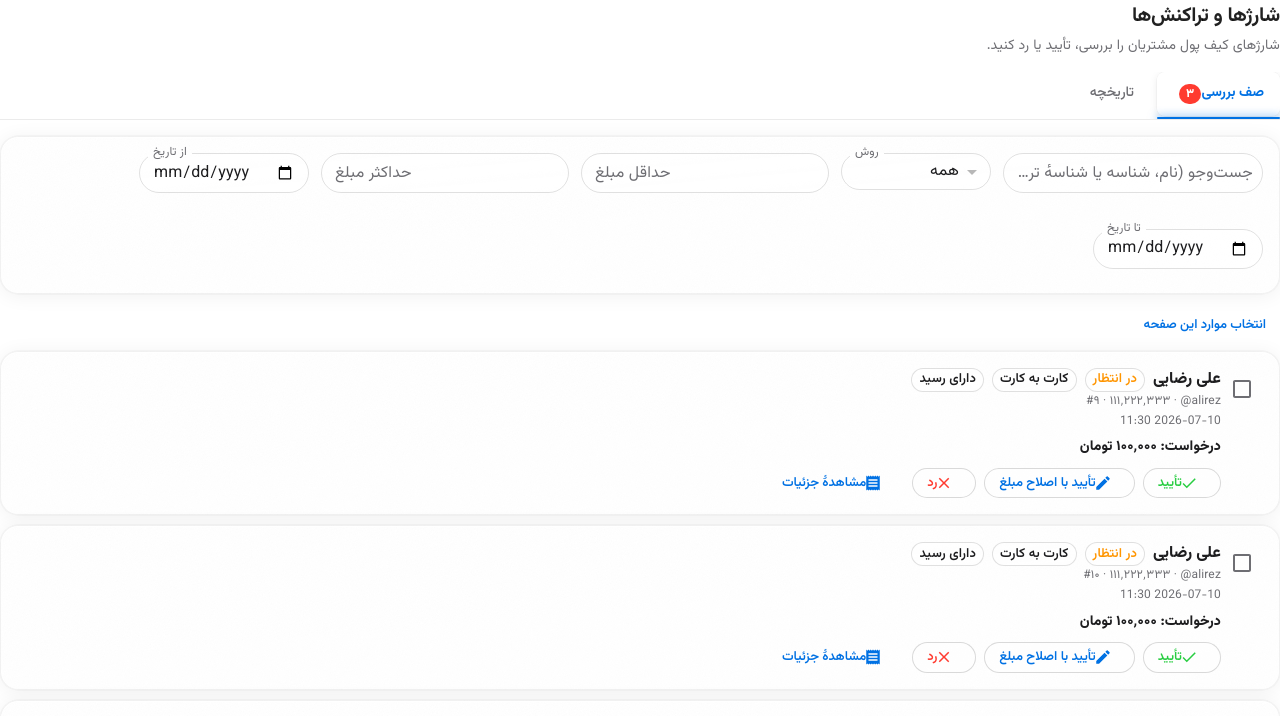
it: storefront top-ups operations center › runs a bounded bulk review with a single key and per-item results, healing already-decided
Click the button "انتخاب موارد این صفحه" at (1205, 325), box [1130,310,1279,341]
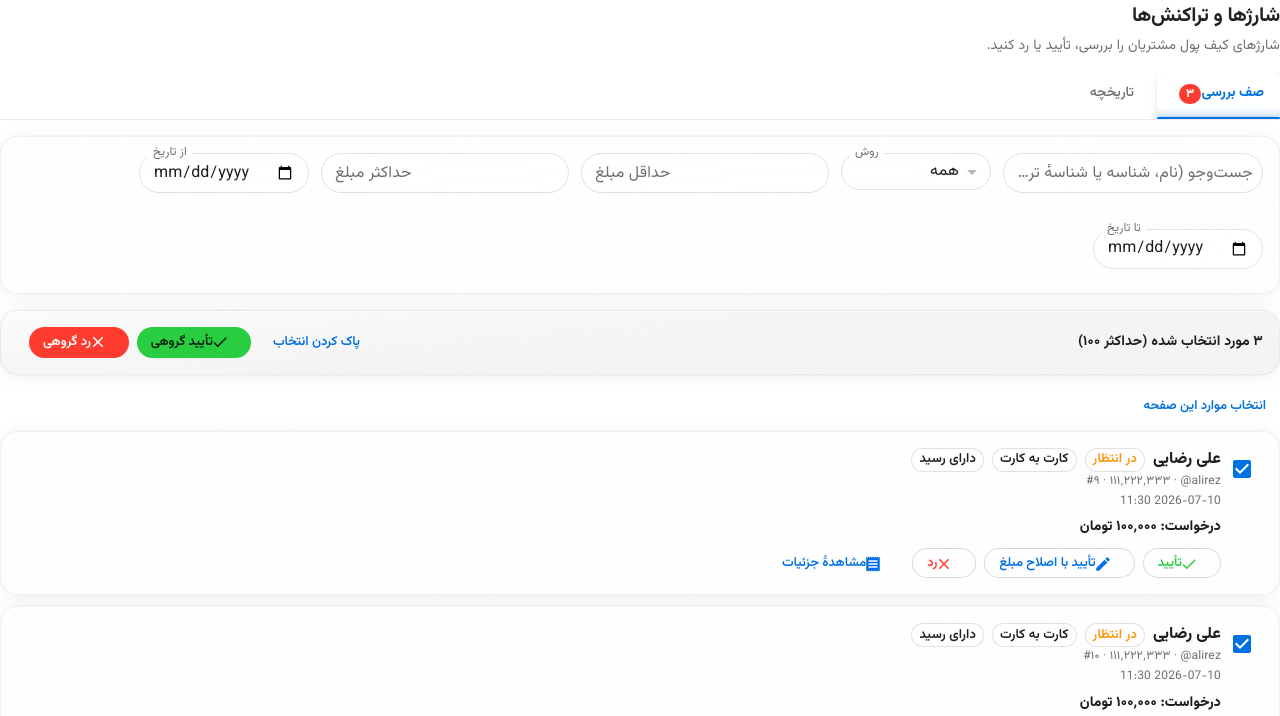
Click the button "تأیید گروهی" at (194, 342), box [137,327,251,358]
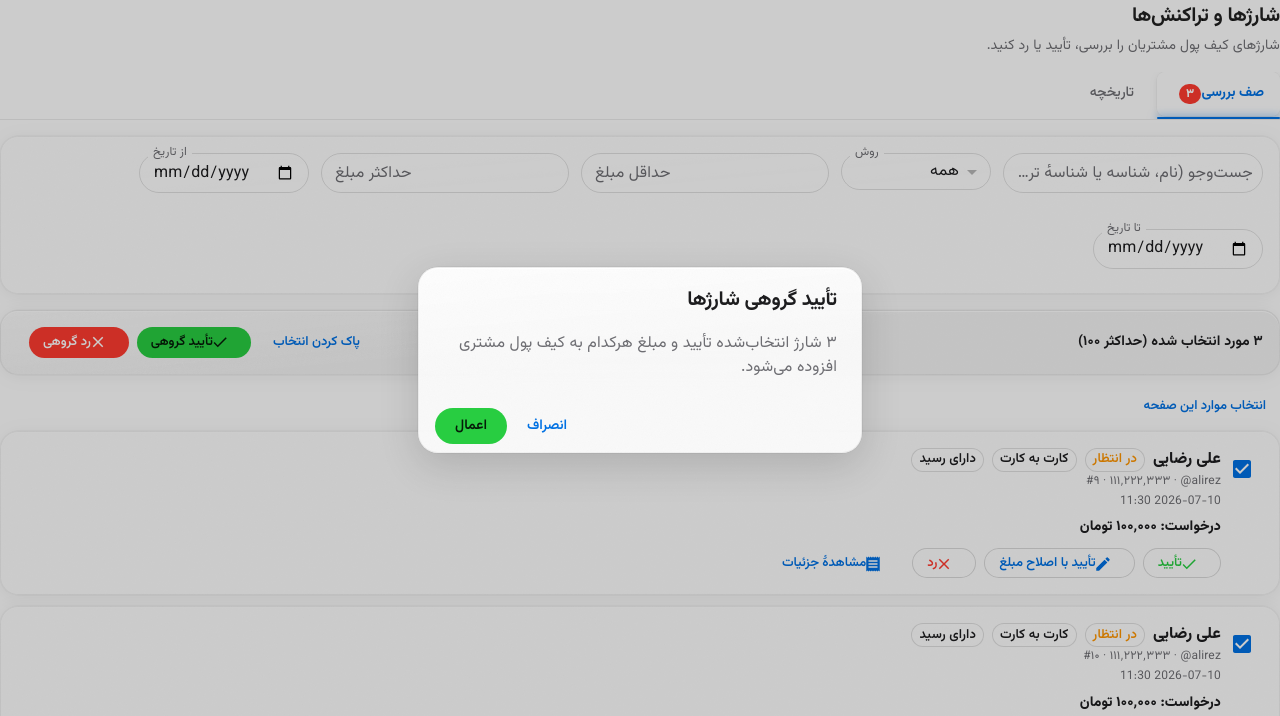
Double-click the button "اعمال" at (471, 426), box [435,408,507,444]
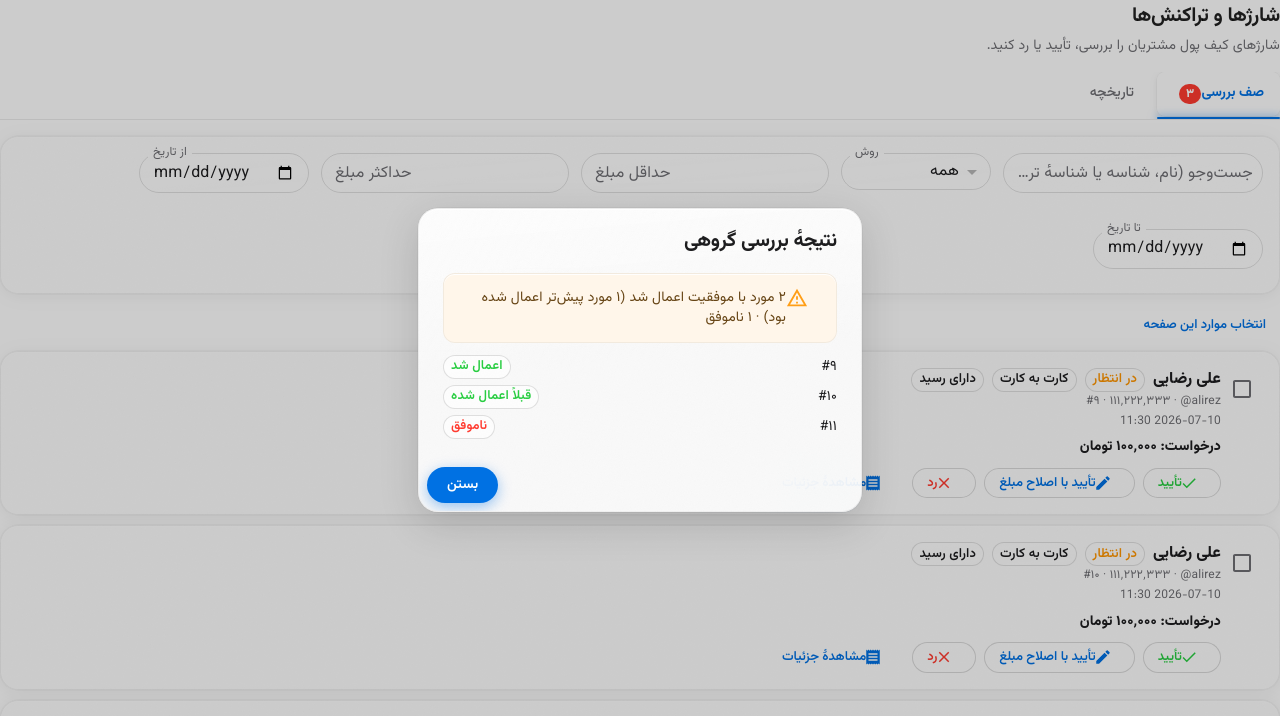
Now the heading "نتیجهٔ بررسی گروهی" is shown, box [684,225,837,257]
Now the text "۲ مورد با موفقیت اعمال شد" is shown, box [460,280,786,336]
Now the text "اعمال شد" is shown, box [451,356,503,376]
